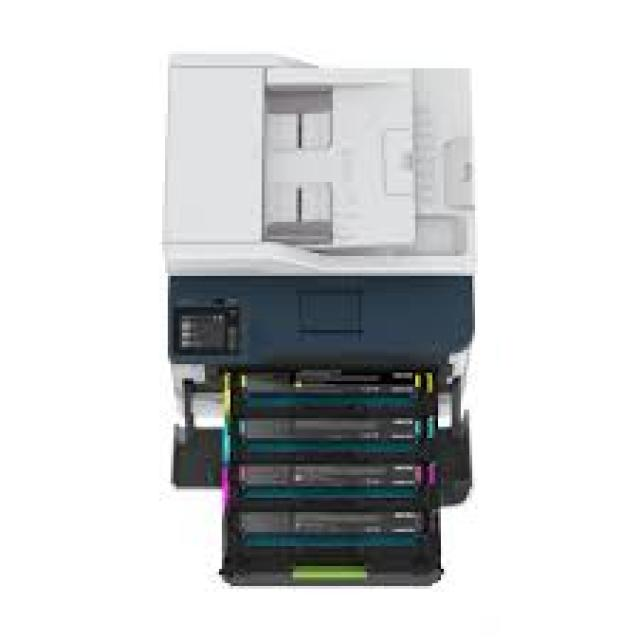printer: (62, 0, 608, 620)
